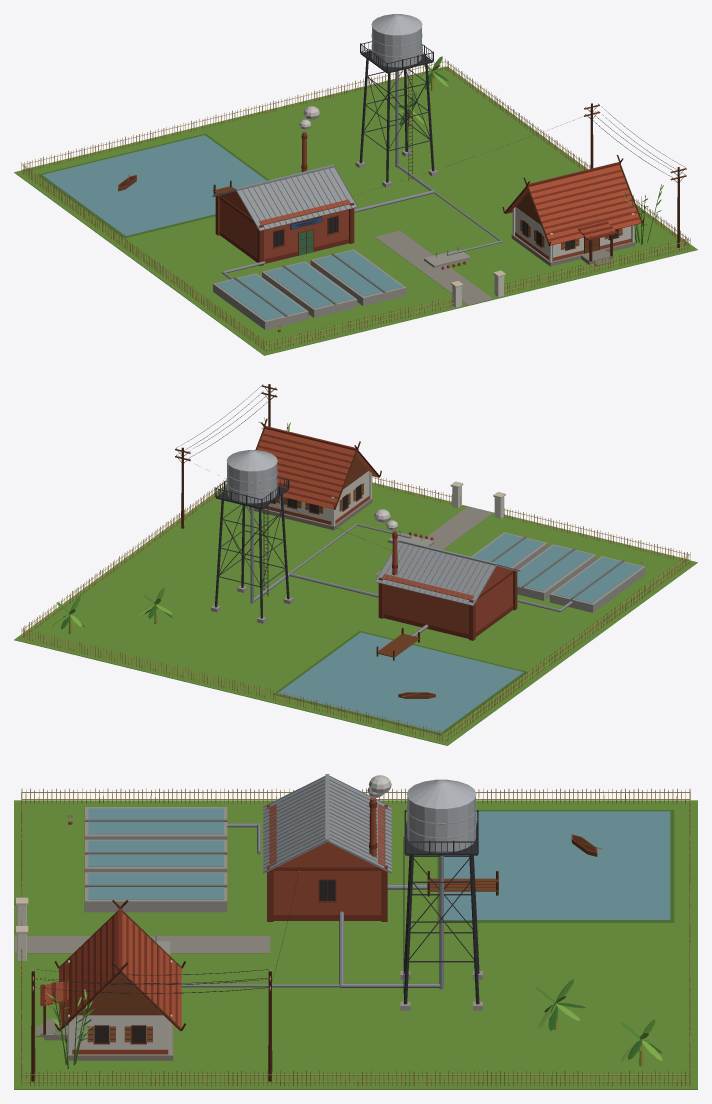
Rendered from water_works.glb.
3 renders of one model, top to bottom at view 1: azimuth 30°, elevation 25°; view 2: azimuth 150°, elevation 25°; view 3: azimuth 270°, elevation 25°, orthographic. The views are drawn at different scales.
Parts seen in each view (by area): view 1: body, windows; view 2: body; view 3: body, windows.
Part boxes in pixels (x1,y1,x2,y2): body: (14,14,697,355); windows: (274,216,617,248); body: (14,384,697,745); body: (14,774,697,1089); windows: (95,880,335,1042).
Bounding box in the file's own units: 47.9 × 16.66 × 47.9.
